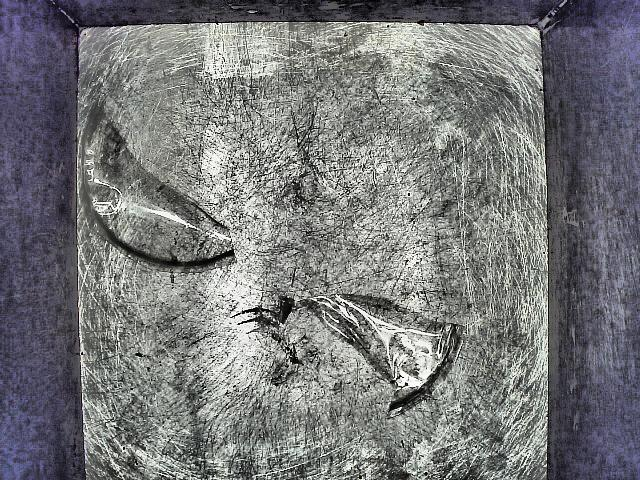Plastic: (71, 91, 248, 293), (261, 295, 484, 416)
